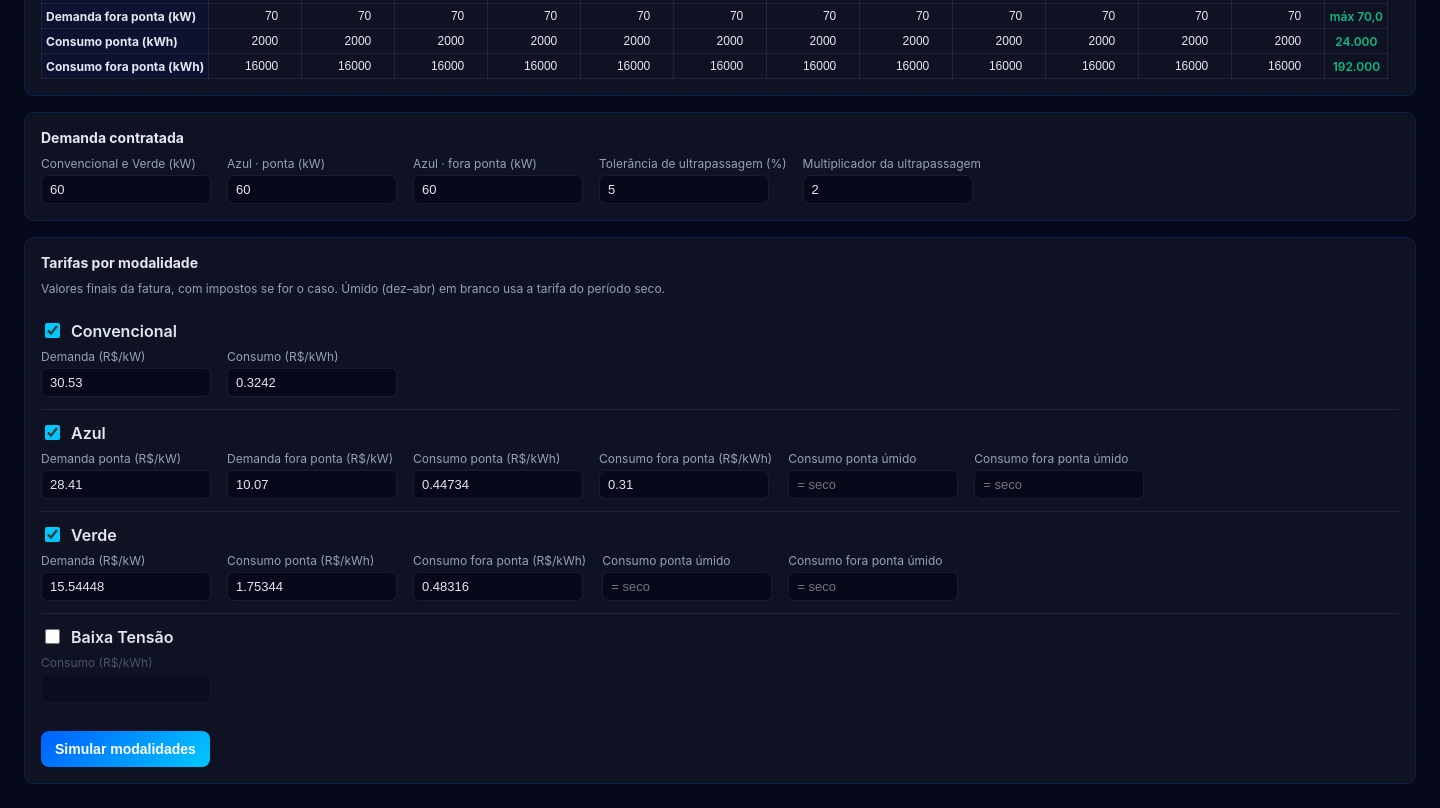
Test: GridPage › mostra os erros devolvidos pelo motor
(page scrolled)
Click the button "Simular modalidades": (125, 749) x1=41 y1=731 x2=210 y2=767
(page scrolled)
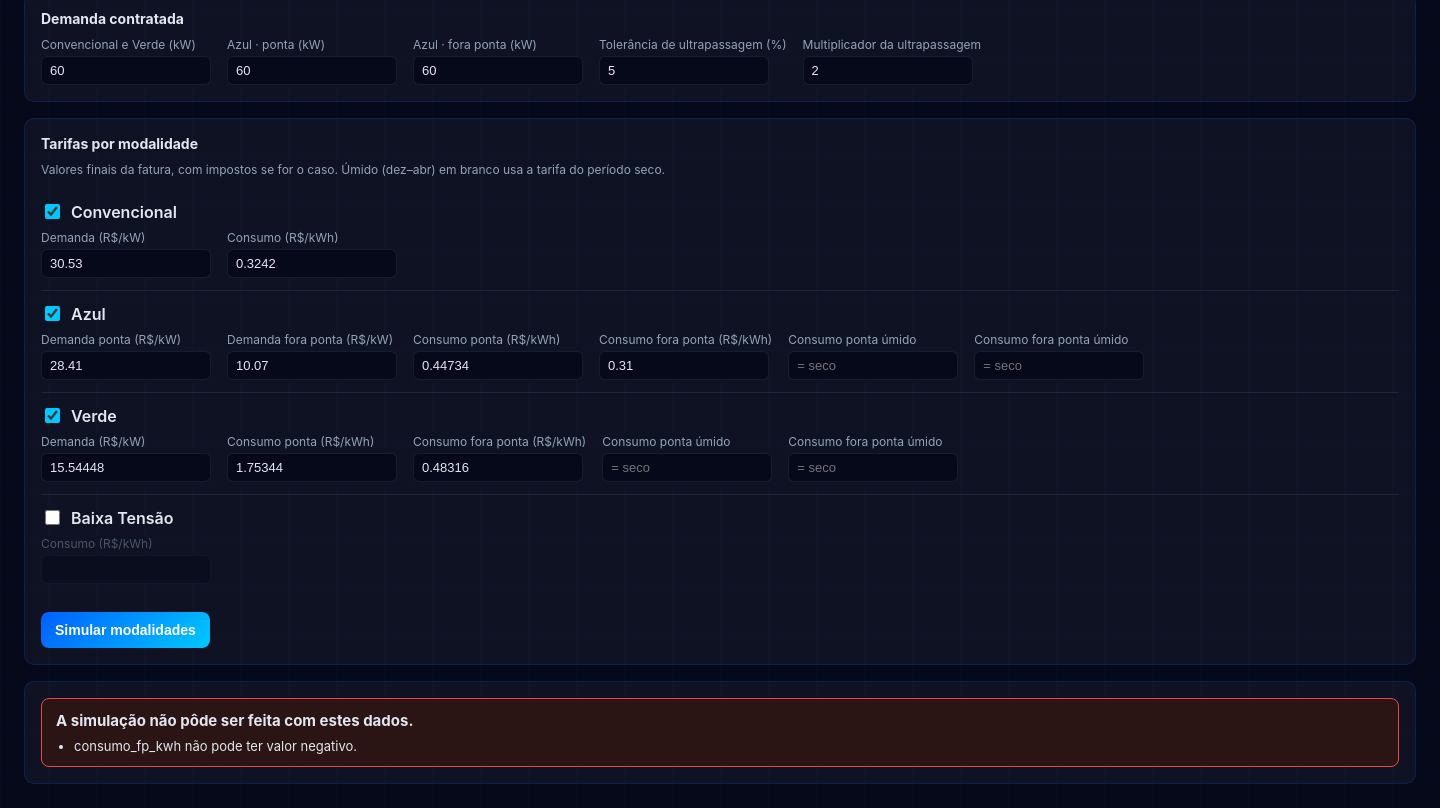
Check: the list item "consumo_fp_kwh não pode ter valor negativo." is shown, box x1=74 y1=738 x2=357 y2=754
